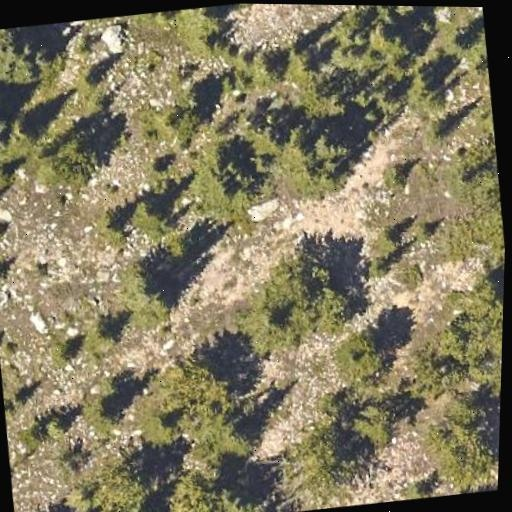tree-top: (124, 350, 261, 464), (232, 242, 361, 355), (276, 412, 366, 509), (420, 395, 500, 495), (175, 141, 262, 228), (437, 281, 504, 391), (153, 459, 266, 512), (454, 163, 507, 275), (28, 126, 109, 196), (72, 448, 157, 512), (277, 118, 346, 190), (326, 326, 395, 392), (110, 254, 174, 321), (344, 394, 404, 454), (116, 274, 177, 333), (164, 4, 231, 55), (0, 23, 56, 82), (363, 5, 423, 53), (402, 64, 450, 114), (78, 390, 123, 436), (128, 194, 171, 237), (81, 316, 120, 358), (94, 212, 131, 252), (378, 157, 414, 195), (481, 90, 496, 138), (0, 103, 16, 145)
